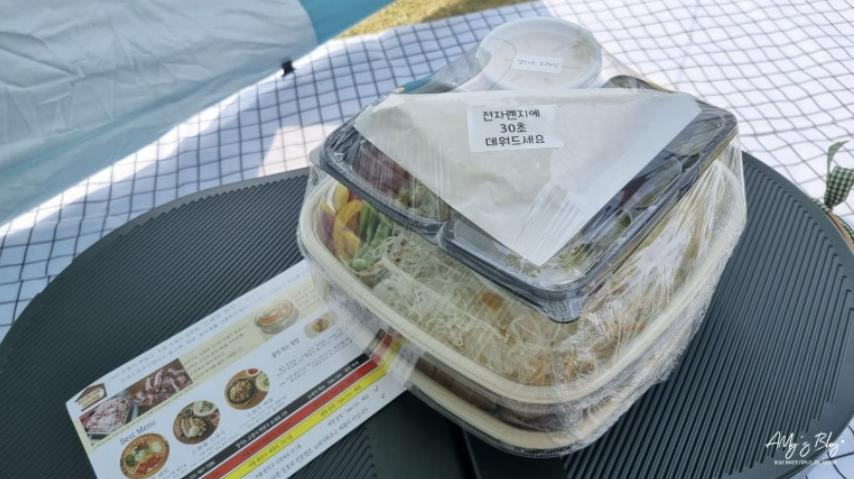Lunch Box: (298, 18, 745, 455), (312, 99, 736, 322), (355, 89, 699, 264), (476, 18, 601, 88)
